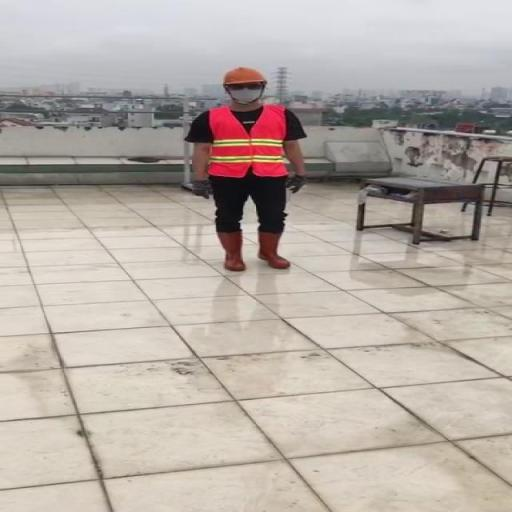Person: (186, 50, 314, 284)
boots: (255, 220, 301, 274), (210, 220, 251, 274)
gloves: (187, 174, 217, 200), (286, 171, 314, 193)
goggles: (225, 77, 268, 91)
helmet: (222, 62, 272, 87)
vest: (202, 102, 296, 178)
